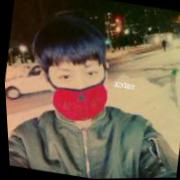WRONG: (41, 51, 112, 122)
